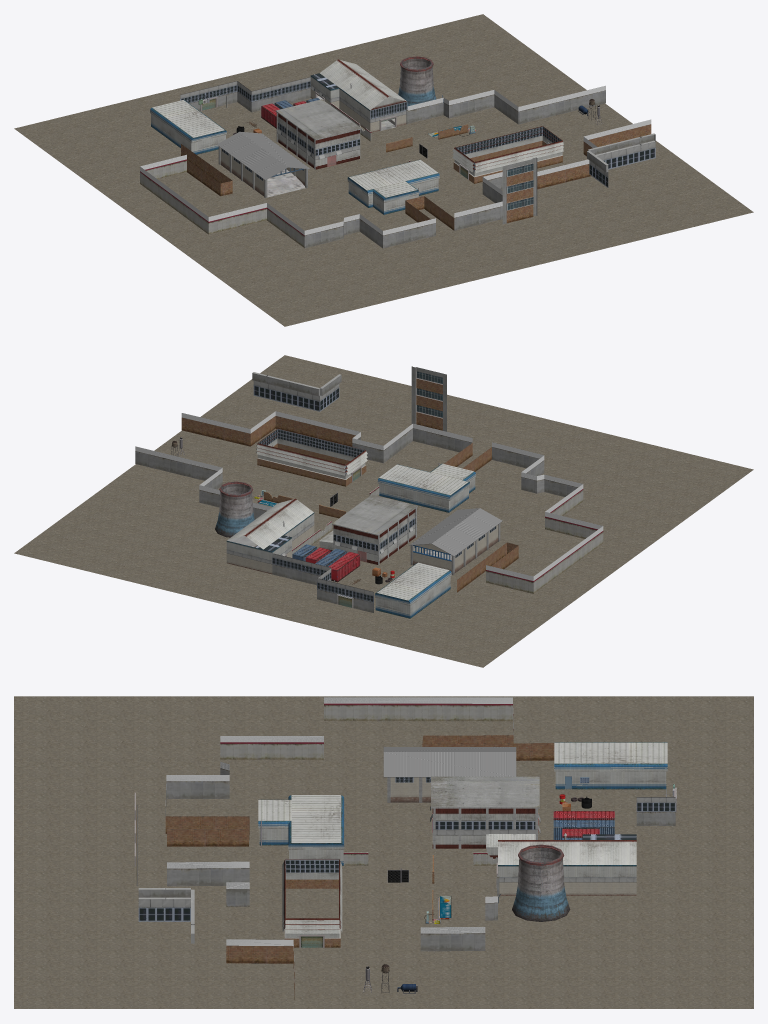
Rendered from Industrial_map_01.fbx.
The picture shows the model from 3 angles, top to bottom: view 1: azimuth 30°, elevation 25°; view 2: azimuth 150°, elevation 25°; view 3: azimuth 270°, elevation 25°; orthographic projection. The views are drawn at different scales.
Parts seen in each view (by area): view 1: Base1, Building_5, Building_1, Building_8, Building_4, Building_7, Building_3, Building_2, Building_15, Pipe1, polySurface1, compound_wall_5 (+11 smaller); view 2: Base1, Building_8, Building_5, Building_1, Building_4, Building_7, Building_3, Building_2, compound_wall_5, Building_15, Pipe1, polySurface1 (+10 smaller); view 3: Base1, Building_5, Building_1, Building_3, Building_4, Building_7, Building_8, Pipe1, compound_wall_11, compound_wall_4, compound_wall_12, compound_wall_3 (+11 smaller).
Boxes of the visible parts, x1,y1,x2,y2 form: Base1: (14, 14, 753, 326); Building_5: (275, 99, 361, 169); Building_1: (310, 59, 407, 132); Building_8: (452, 126, 563, 183); Building_4: (217, 131, 310, 198); Building_7: (347, 159, 439, 214); Building_3: (150, 100, 226, 154); Building_2: (180, 77, 310, 112); Building_15: (502, 159, 533, 224); Pipe1: (398, 56, 436, 108); polySurface1: (588, 133, 655, 169); compound_wall_5: (537, 124, 651, 189); Base1: (14, 355, 753, 667); Building_8: (256, 428, 367, 486); Building_5: (332, 494, 417, 564); Building_1: (226, 498, 314, 574); Building_4: (409, 508, 502, 575); Building_7: (377, 463, 475, 512); Building_3: (374, 562, 451, 618); Building_2: (272, 553, 373, 612); compound_wall_5: (181, 416, 355, 446); Building_15: (416, 367, 446, 431); Pipe1: (215, 481, 254, 537); polySurface1: (252, 372, 319, 411); Base1: (14, 696, 753, 1008); Building_5: (430, 776, 540, 848); Building_1: (496, 834, 636, 895); Building_3: (554, 742, 667, 789); Building_4: (383, 747, 516, 802); Building_7: (258, 795, 344, 865); Building_8: (282, 859, 342, 947); Pipe1: (512, 844, 570, 921); compound_wall_11: (324, 703, 512, 721); compound_wall_4: (165, 816, 249, 846); compound_wall_12: (220, 742, 323, 759); compound_wall_3: (422, 735, 554, 760).
Bounding box in the file's own units: 13498 × 1787 × 13477.
11 materials, 11 textured.
